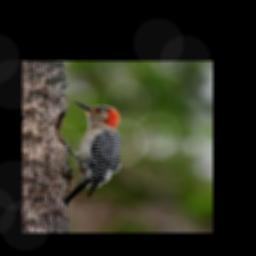Woodpecker: (61, 97, 129, 212)
